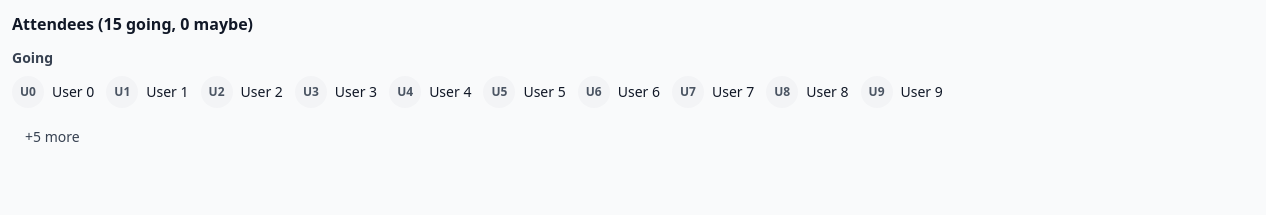
AttendeeList › should show less button when expanded
This screenshot has width=1266, height=215.
Click the button "+5 more" at coordinates (52, 137), box [12, 120, 93, 154]
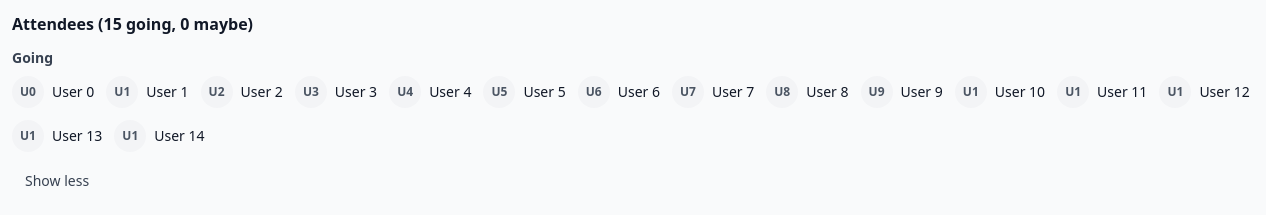
Click the button "Show less" at coordinates (57, 181), box [12, 164, 102, 198]
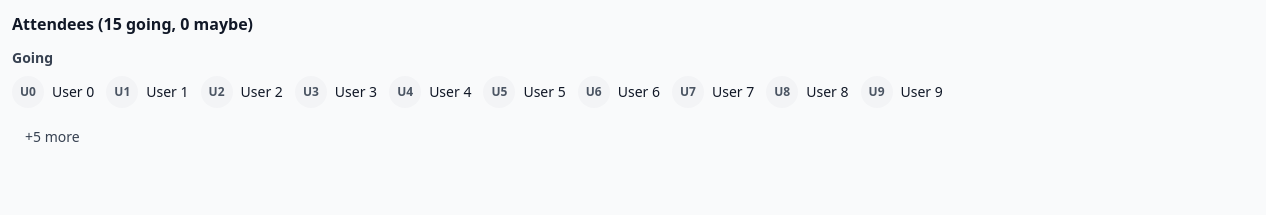
Result: the text "+5 more" is shown at [25, 127, 80, 147]
